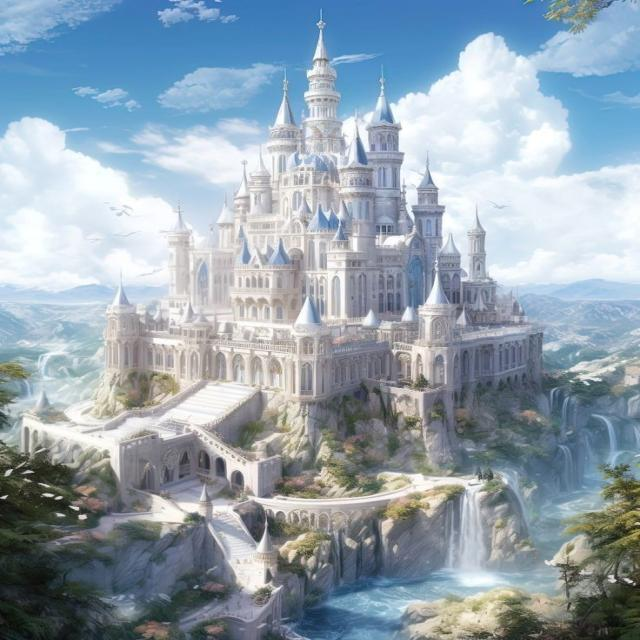castle: (90, 6, 572, 421)
